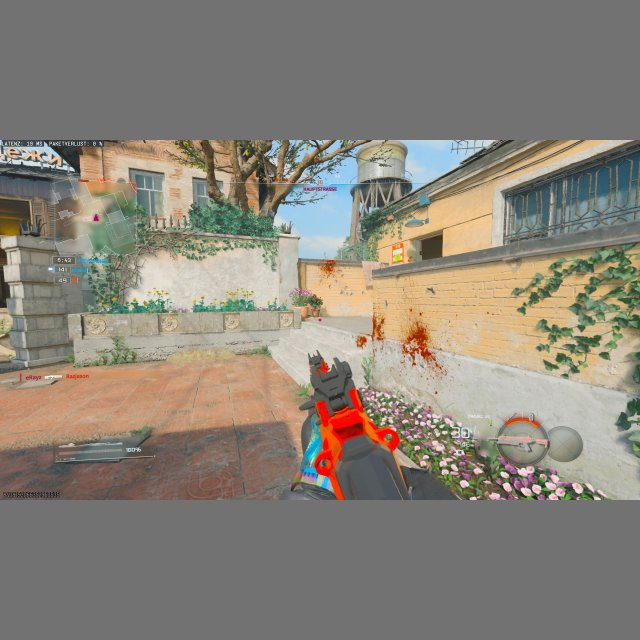player: (307, 293, 323, 321)
